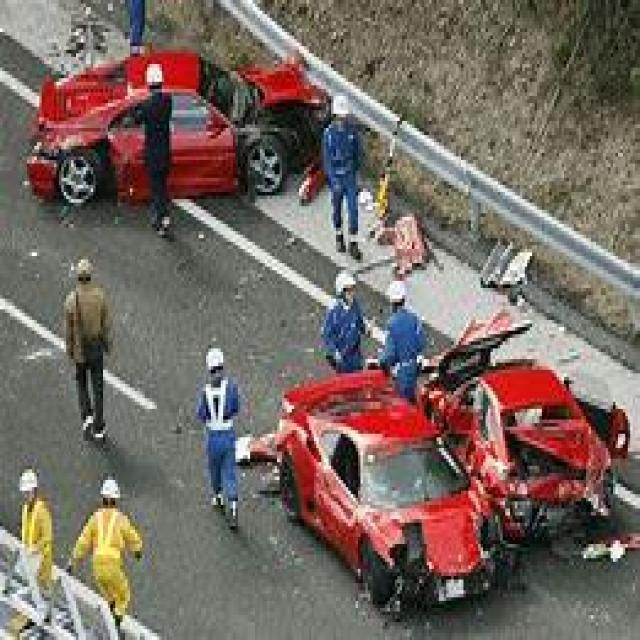Nguy hiểm: (257, 284, 640, 636)
